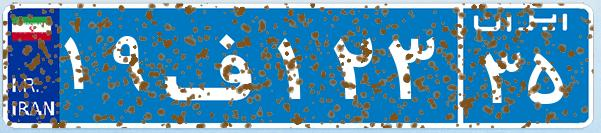1: (273, 28, 330, 110), (57, 26, 110, 107)
2: (330, 28, 385, 110)
3: (385, 28, 445, 110), (475, 38, 525, 113)
5: (525, 38, 570, 115)
9: (110, 28, 158, 105)
ف: (158, 15, 273, 115)
